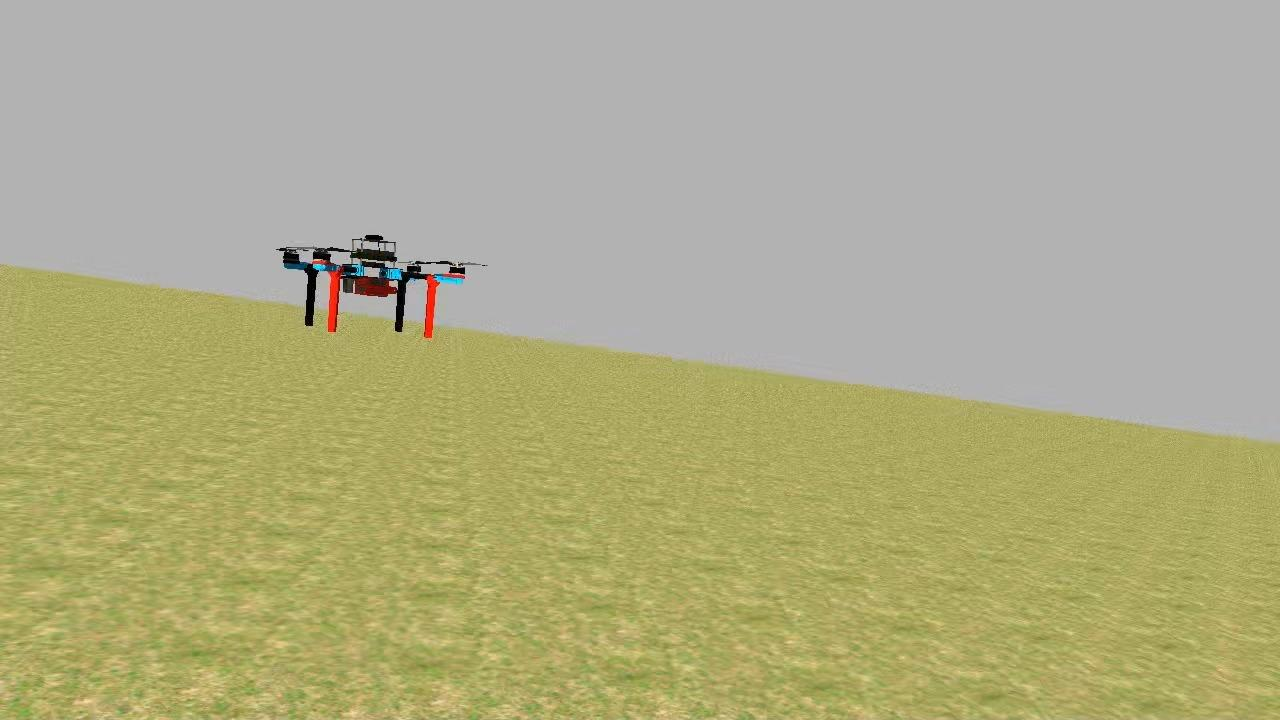UAV: (278, 230, 474, 342)
